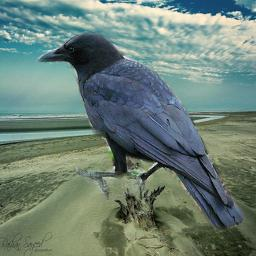Crow: (36, 31, 246, 236)
